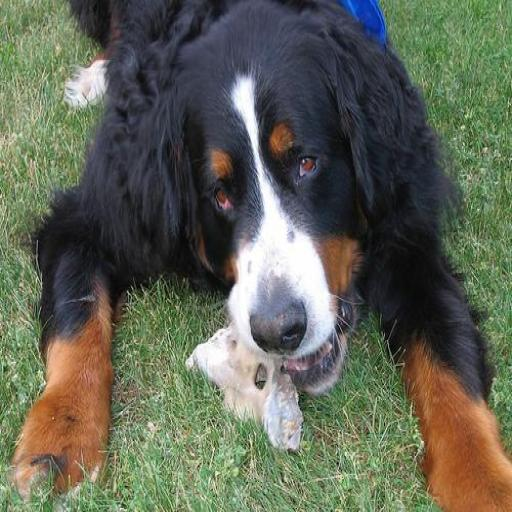dog_face: (144, 21, 416, 371)
